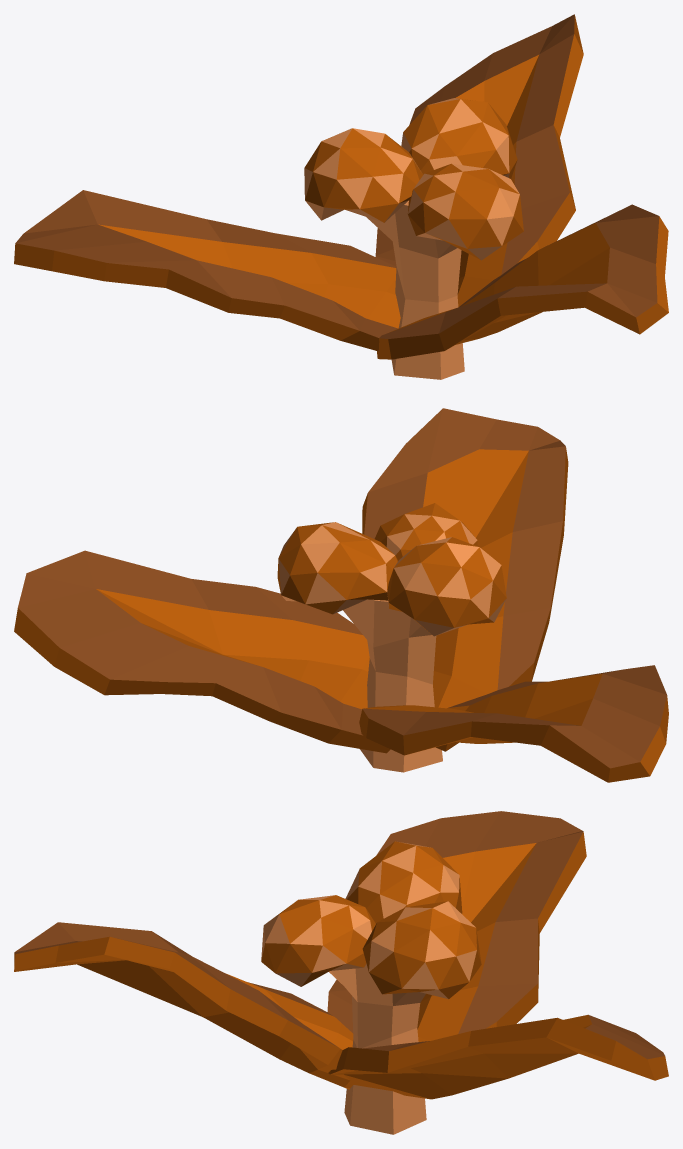
The model's file is Broccoli_M_Dead.fbx.
3 renders of one model, top to bottom at view 1: azimuth 30°, elevation 25°; view 2: azimuth 150°, elevation 25°; view 3: azimuth 270°, elevation 25°, orthographic.
Parts seen in each view (by area): view 1: Broccoli_M_Died; view 2: Broccoli_M_Died; view 3: Broccoli_M_Died.
Part boxes in pixels (left/top/right/bottom): Broccoli_M_Died: left=14, top=14, right=668, bottom=379; Broccoli_M_Died: left=14, top=408, right=668, bottom=782; Broccoli_M_Died: left=14, top=811, right=668, bottom=1134.
Bounding box in the file's own units: 37.57 × 14.41 × 35.52.
